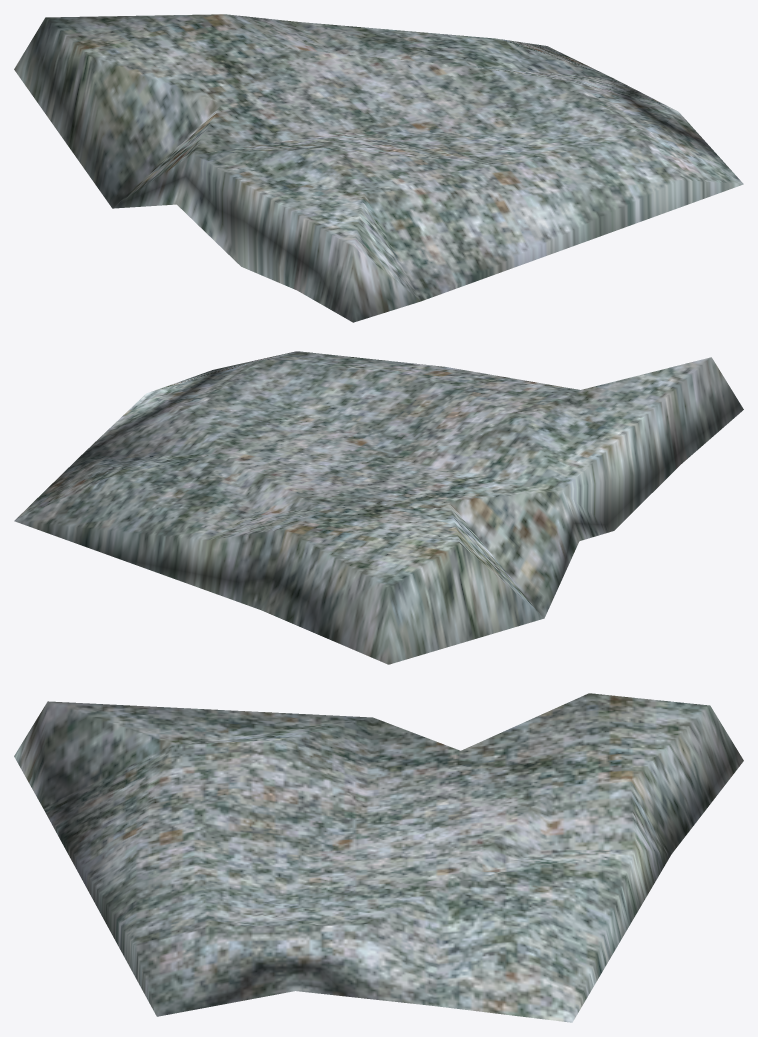
The model's file is rock_graniteslab_small_a1_l0.fbx.
3 views of the same model, one above another, from view 1: azimuth 30°, elevation 25°; view 2: azimuth 150°, elevation 25°; view 3: azimuth 270°, elevation 25° (orthographic). The views are drawn at different scales.
Parts seen in each view (by area): view 1: mesh_node; view 2: mesh_node; view 3: mesh_node.
Part boxes in pixels (x1=…): mesh_node: x1=14, y1=14, x2=743, y2=322; mesh_node: x1=14, y1=351, x2=743, y2=664; mesh_node: x1=14, y1=693, x2=743, y2=1022.
Size of the model in its own units: 0.7932 by 0.1661 by 0.9883.
